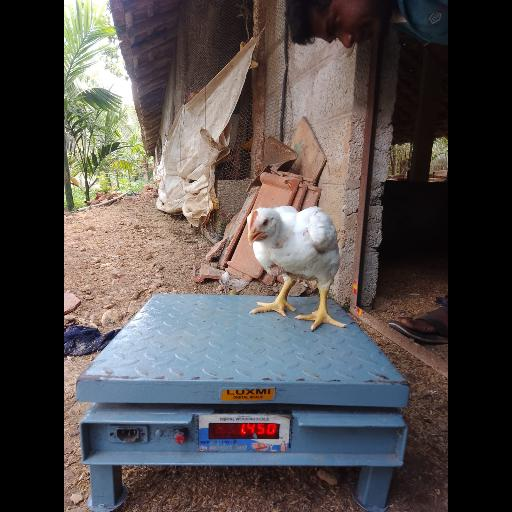chick: (248, 206, 346, 330)
